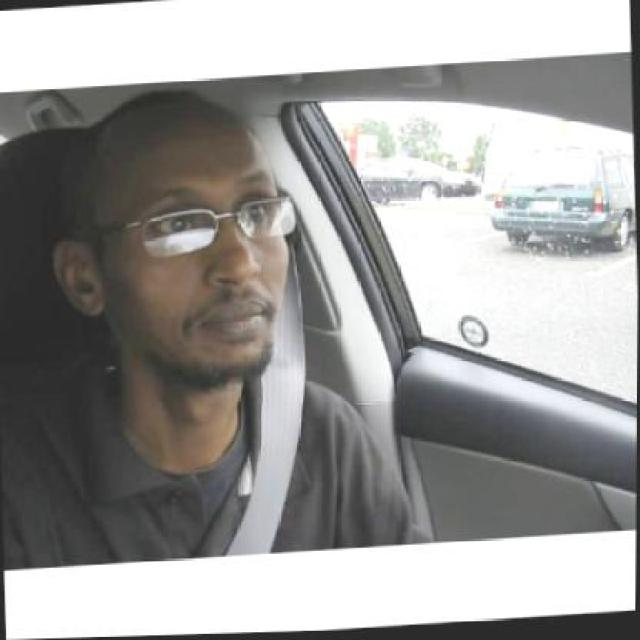attentif: (44, 85, 296, 402)
